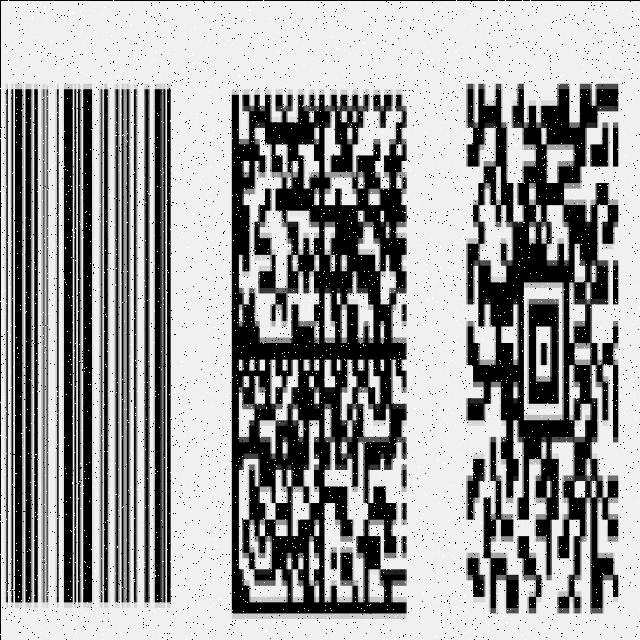datamatrix: (224, 72, 413, 634)
